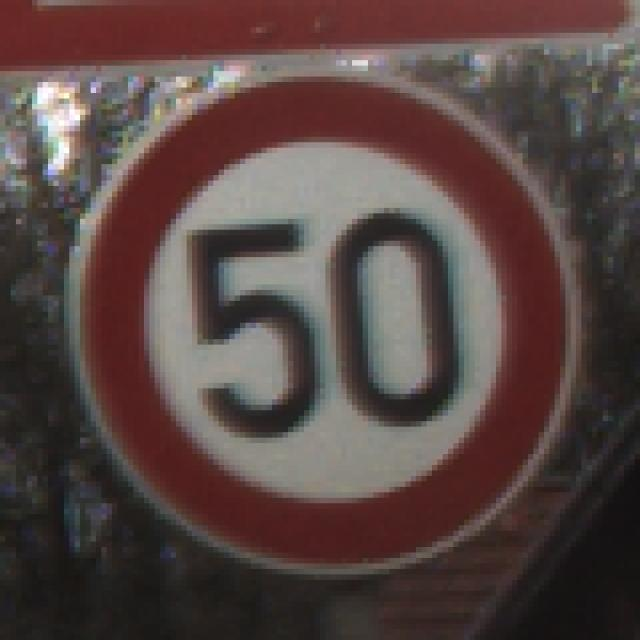speed limit 50: (59, 65, 588, 569)
